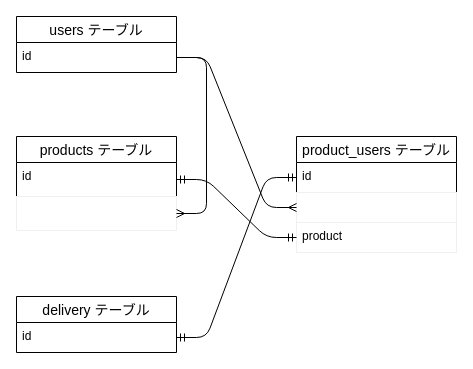
This 473x369 diagram has some shape labels left out. Each missing label, with the box of its shape:
user: (296, 192, 456, 222)
user_id: (16, 196, 176, 230)
